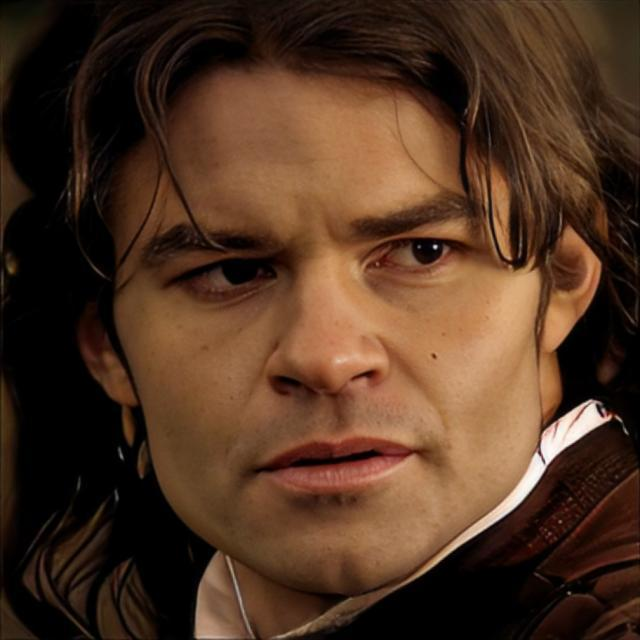anger: (120, 34, 540, 594)
